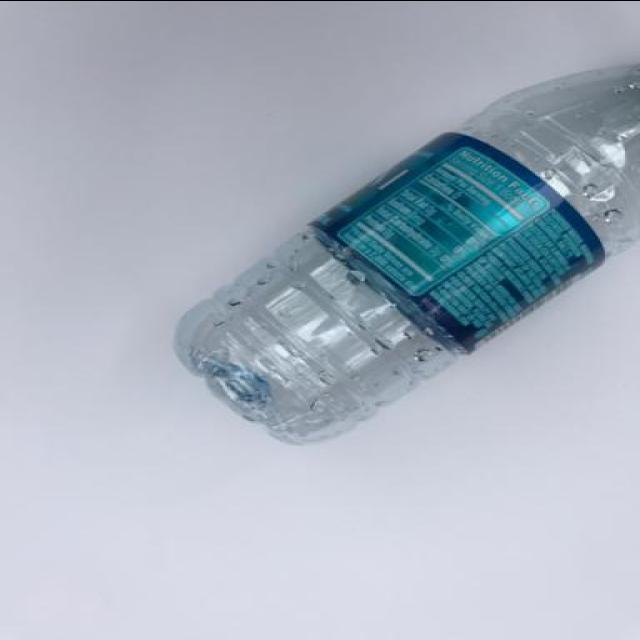PET: (174, 61, 638, 446)
